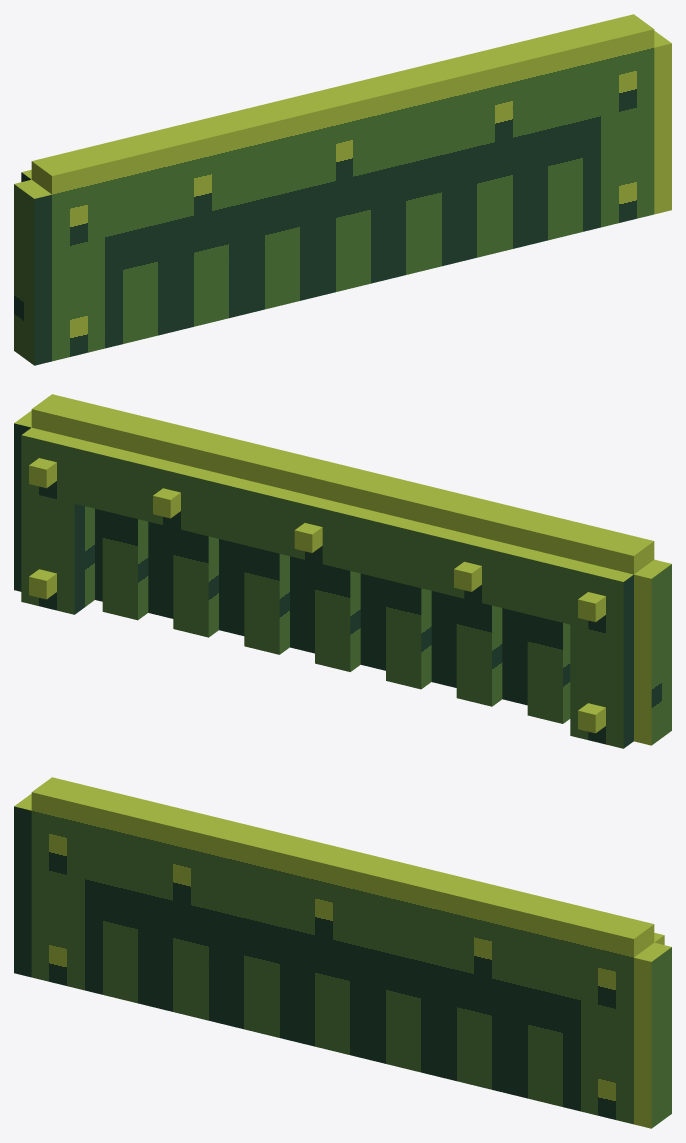
File: sewer_bars_aao.fezao.glb
The picture shows the model from 3 angles, top to bottom: view 1: azimuth 30°, elevation 25°; view 2: azimuth 150°, elevation 25°; view 3: azimuth 330°, elevation 25°; orthographic projection.
Parts seen in each view (by area): view 1: SEWER_BARS_AAO; view 2: SEWER_BARS_AAO; view 3: SEWER_BARS_AAO.
Boxes of the visible parts, x1,y1,x2,y2 form: SEWER_BARS_AAO: (14,14,671,365); SEWER_BARS_AAO: (14,394,671,748); SEWER_BARS_AAO: (14,777,671,1128).
Size of the model in its own units: 2.25 by 0.625 by 0.25.
Materials: 1 (1 with a texture image).
